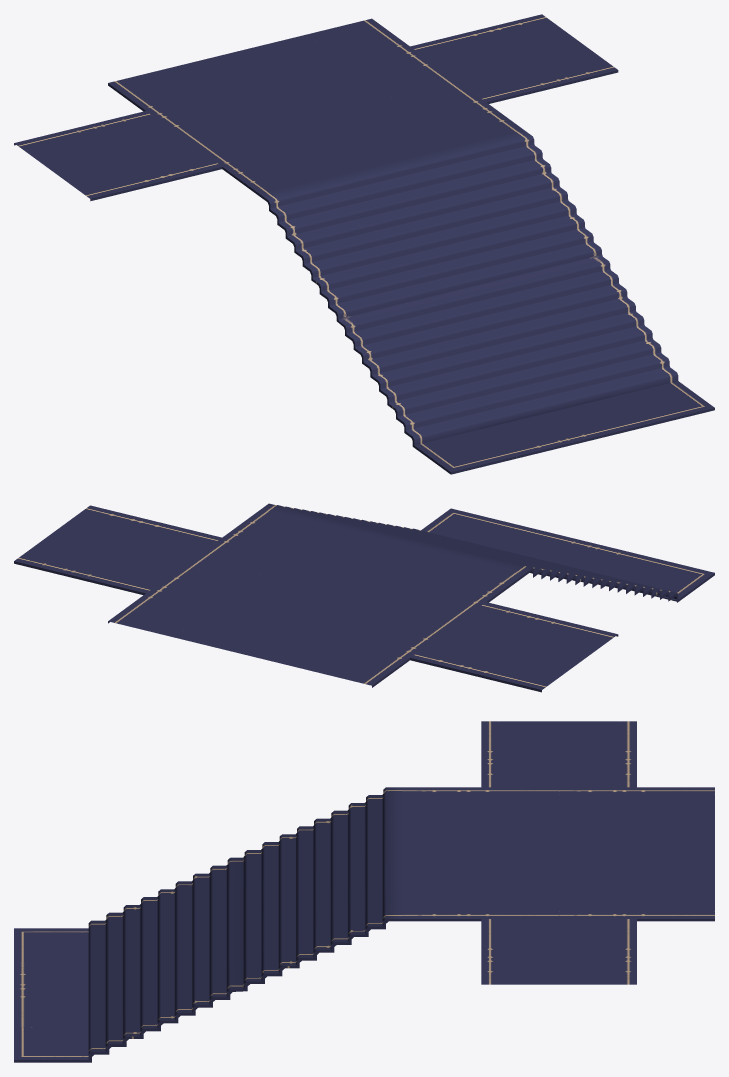
File: SM_Carpet_Stair_01.fbx
3 renders of one model, top to bottom at view 1: azimuth 30°, elevation 25°; view 2: azimuth 150°, elevation 25°; view 3: azimuth 270°, elevation 25°, orthographic. The views are drawn at different scales.
Visible parts, largest first — view 1: SM_Carpet_Stair_01; view 2: SM_Carpet_Stair_01; view 3: SM_Carpet_Stair_01.
Part boxes in pixels (box(x1,y1,x2,y2)): SM_Carpet_Stair_01: box(14, 14, 714, 474); SM_Carpet_Stair_01: box(14, 503, 714, 692); SM_Carpet_Stair_01: box(14, 721, 714, 1062).
Size of the model in its own units: 8 by 2.04 by 9.
1 material, 1 textured.
